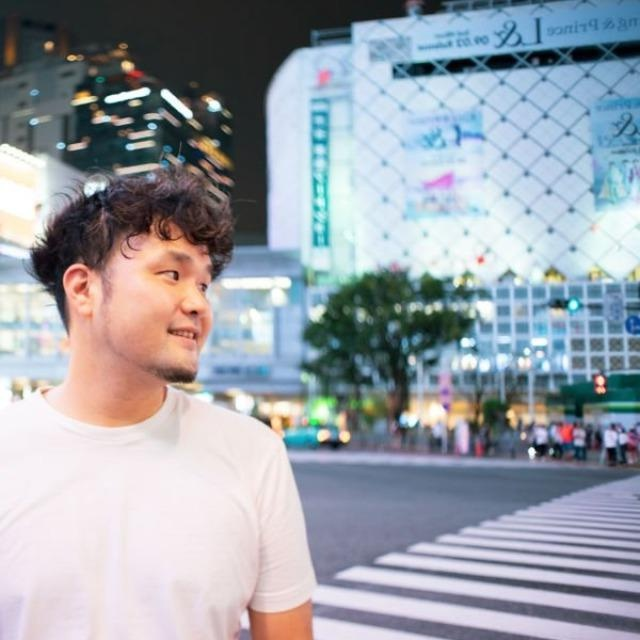Sin_Casco_Mascarrilla: (33, 170, 231, 383)
Sin_Chaleco: (0, 391, 295, 640)
